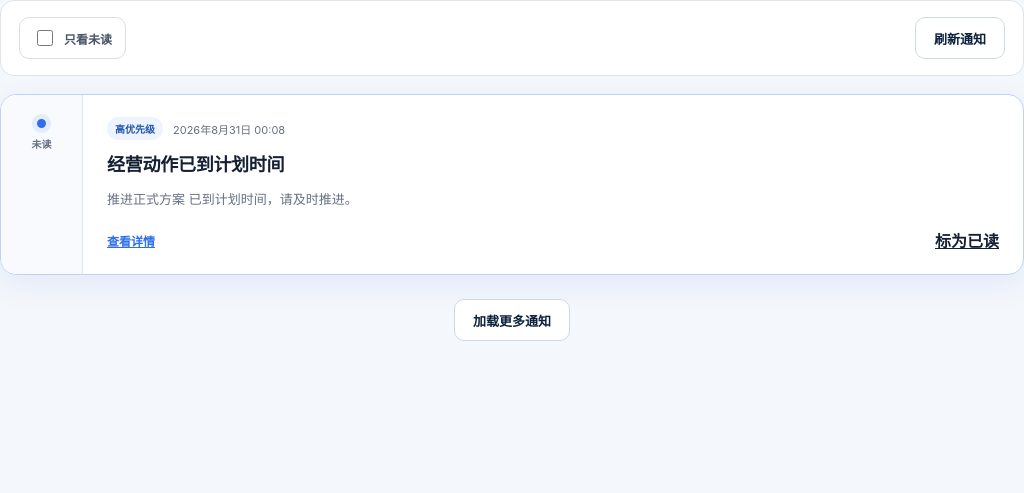
Scenario: InboxWorkspace › merges cursor pages without duplicate notification rows
The width and height of the screenshot is (1024, 493).
Expected: the heading "经营动作已到计划时间" is shown, [107,154,284,175]
Click the button "加载更多通知".
click(512, 320)  # box [454,299,570,341]
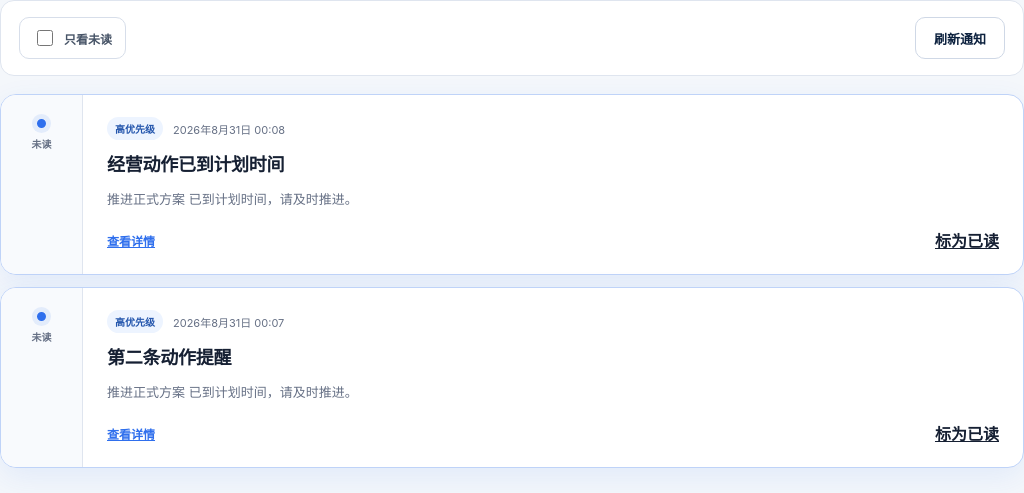
Expected: the heading "第二条动作提醒" is shown, [107,347,231,368]
Expected: the number of elements "经营动作已到计划时间" is 1, [0,94,1023,275]
